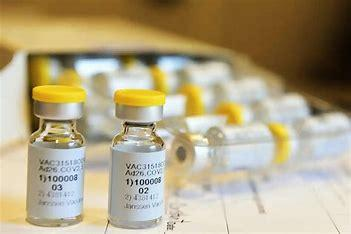Syringe: (23, 79, 89, 232), (105, 82, 171, 230)
